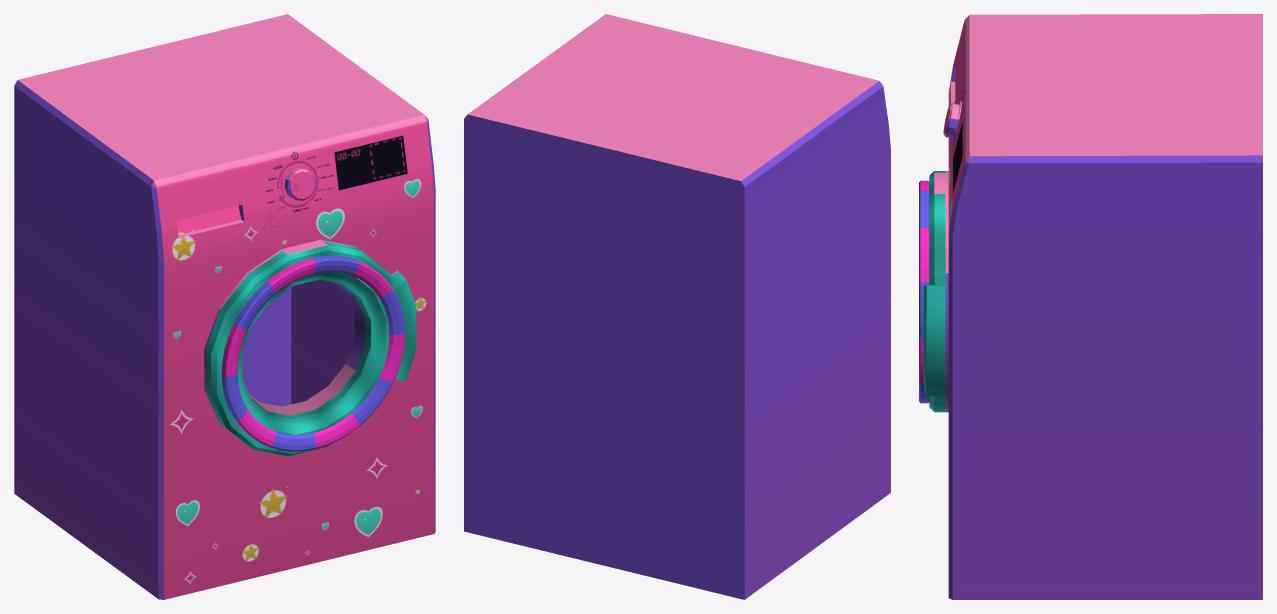
The model's file is washing_machine_y2k.glb.
3 views of the same model, side by side, from view 1: azimuth 30°, elevation 25°; view 2: azimuth 150°, elevation 25°; view 3: azimuth 270°, elevation 25° (orthographic). The views are drawn at different scales.
Visible parts, largest first — view 1: GEO-WasherBody, GEO-WasherBandPink, GEO-WasherBandBlue; view 2: GEO-WasherBody; view 3: GEO-WasherBody, GEO-WasherBandBlue, GEO-WasherBandPink.
Part boxes in pixels (bbox=[...]): GEO-WasherBody: bbox=[14, 14, 435, 599]; GEO-WasherBandPink: bbox=[221, 255, 405, 451]; GEO-WasherBandBlue: bbox=[221, 258, 405, 448]; GEO-WasherBody: bbox=[464, 14, 890, 599]; GEO-WasherBody: bbox=[923, 14, 1262, 599]; GEO-WasherBandBlue: bbox=[919, 180, 929, 403]; GEO-WasherBandPink: bbox=[919, 191, 929, 402].
Bounding box in the file's own units: 0.59 × 0.84 × 0.591.
Materials: 3 (1 with a texture image).
